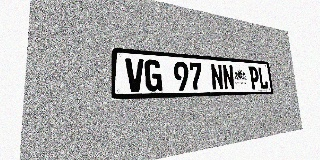7: (188, 62, 203, 91)
9: (173, 61, 189, 91)
G: (144, 59, 162, 91)
L: (258, 67, 269, 89)
N: (210, 64, 224, 90), (222, 64, 235, 90)
P: (248, 66, 260, 89)
V: (125, 58, 145, 92)
